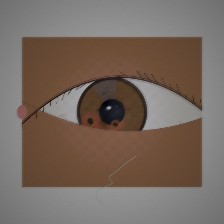foreign_body_visible: (73, 107, 108, 135)
